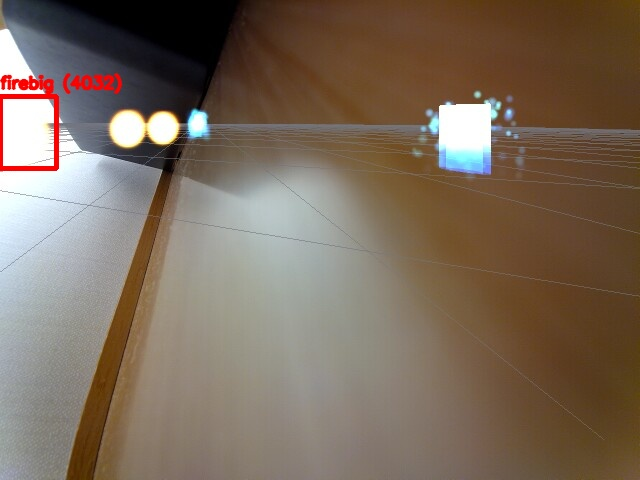firebig: (0, 96, 56, 168)
